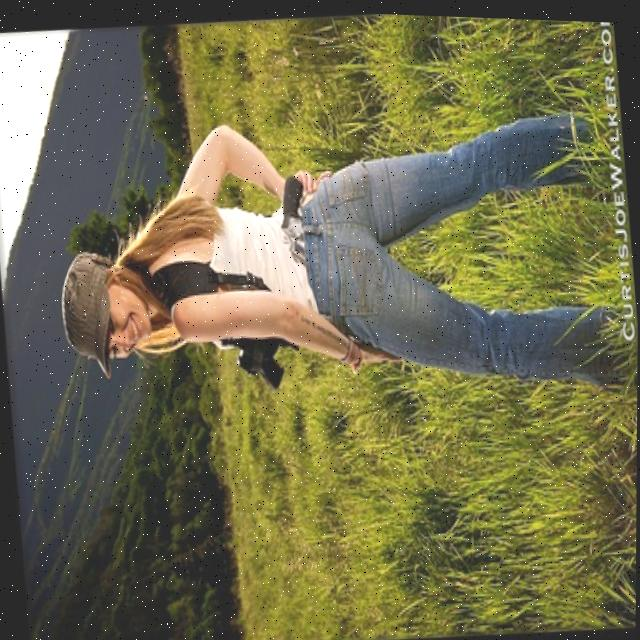pistol: (273, 168, 310, 263)
